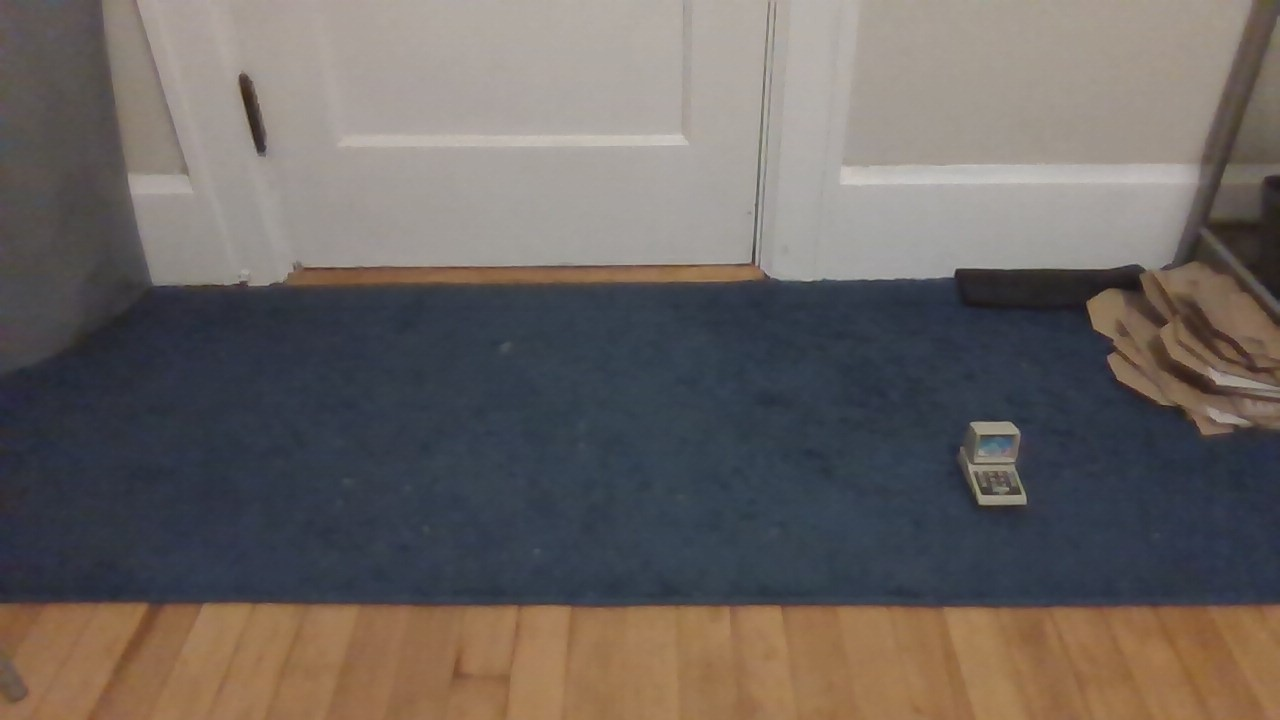Toy: (929, 403, 1057, 543)
